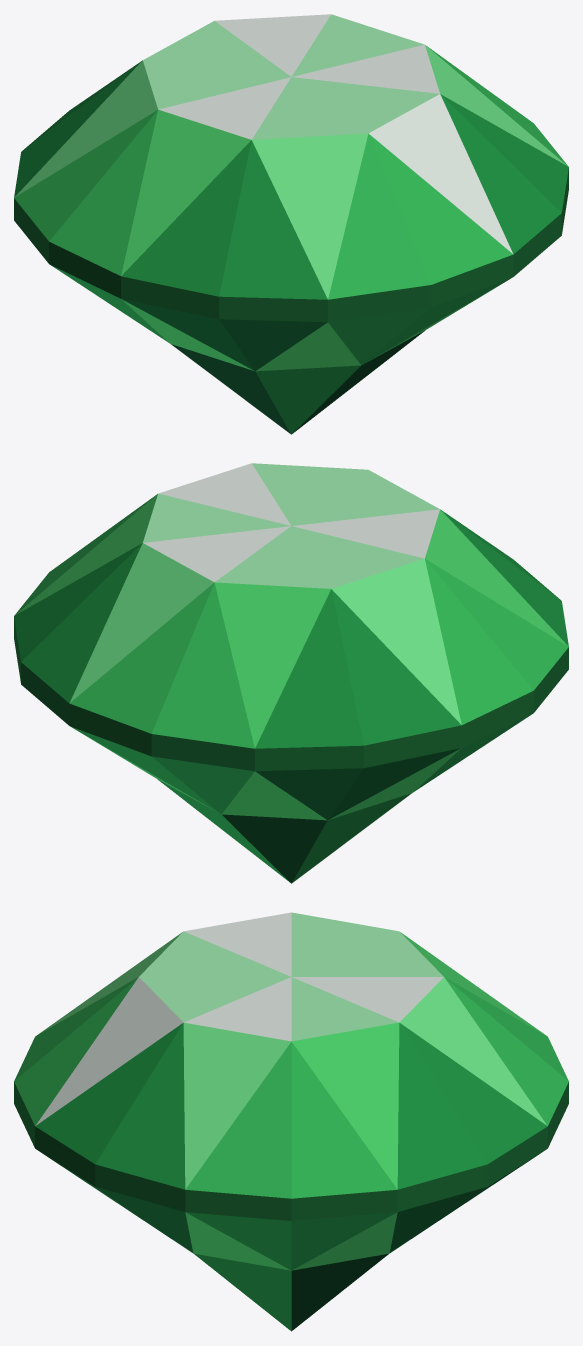
File: FieldGem.obj
The picture shows the model from 3 angles, top to bottom: view 1: azimuth 30°, elevation 25°; view 2: azimuth 150°, elevation 25°; view 3: azimuth 270°, elevation 25°; orthographic projection.
Bounding box in the file's own units: 1.8 × 1.27 × 1.8.
